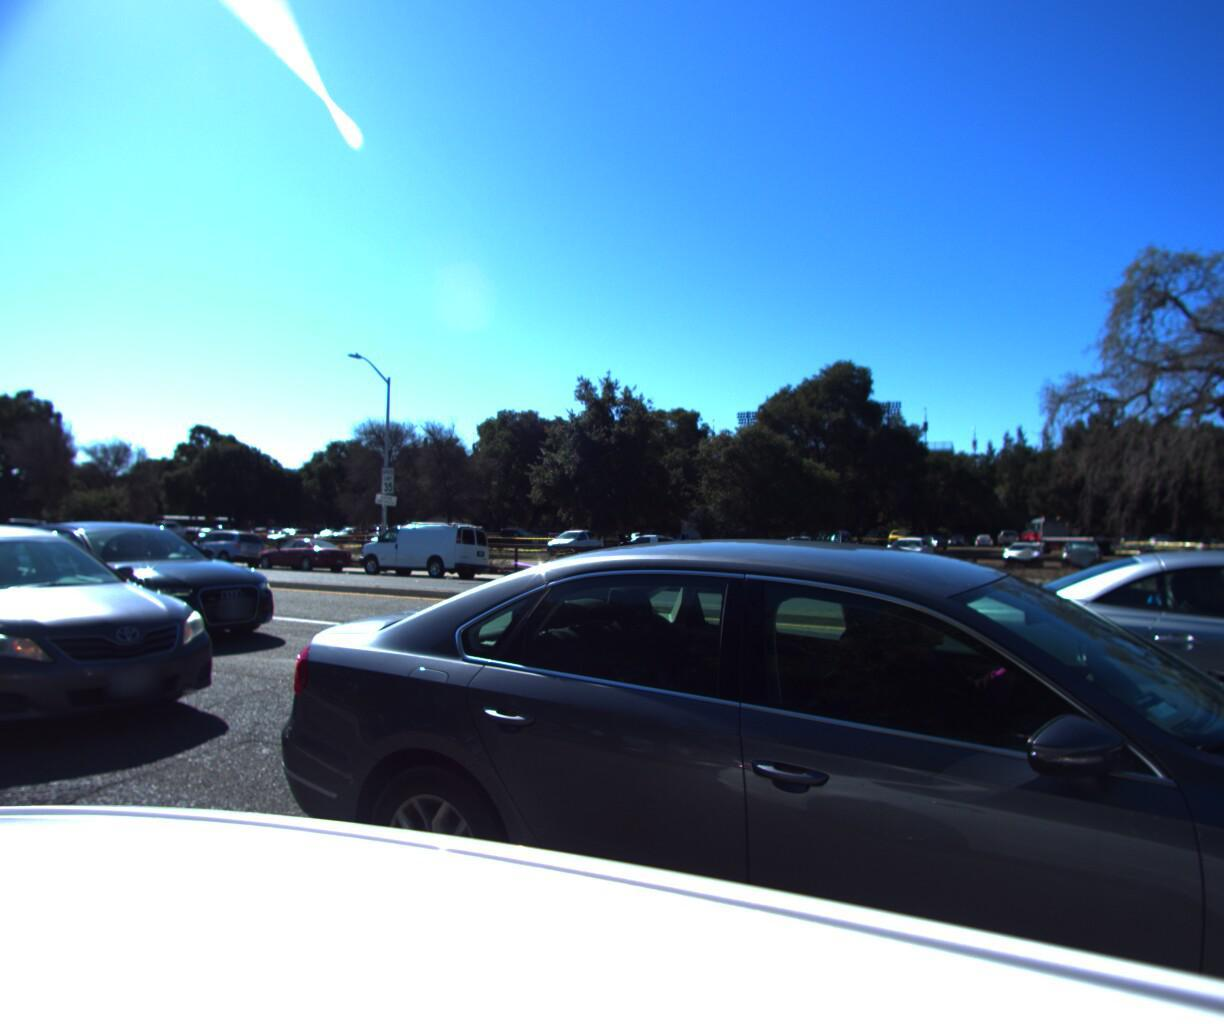car: (234, 527, 1224, 1024), (870, 535, 1224, 867), (0, 516, 262, 784), (0, 519, 292, 657), (569, 531, 757, 600), (168, 530, 272, 573), (246, 538, 356, 577)
other_vehicle: (352, 523, 495, 583)
